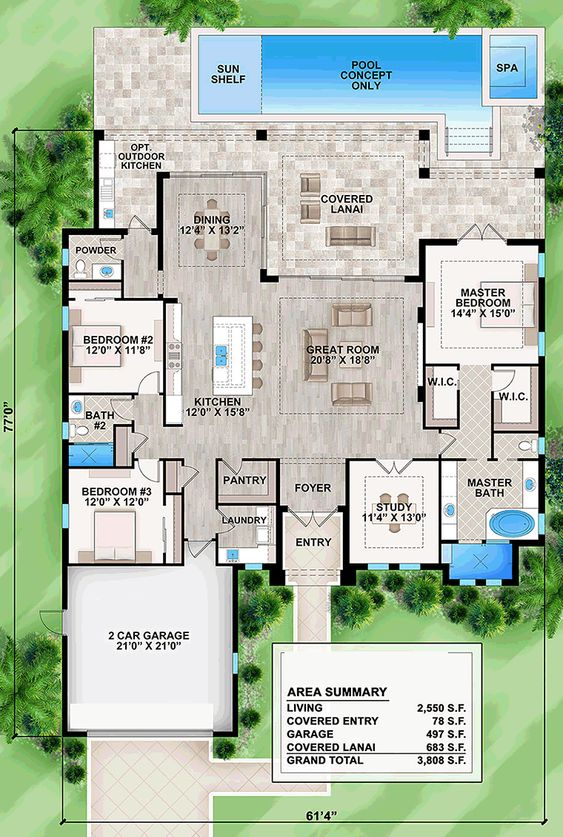door: (458, 219, 505, 244), (289, 506, 333, 530), (35, 606, 63, 637), (108, 396, 134, 420), (136, 459, 162, 483), (185, 462, 211, 486), (494, 367, 520, 391), (188, 536, 213, 560), (136, 369, 161, 390), (96, 236, 121, 257)
room: (422, 238, 545, 366), (345, 458, 442, 570), (61, 466, 166, 565), (61, 298, 166, 395), (439, 458, 546, 542), (61, 392, 133, 469)
